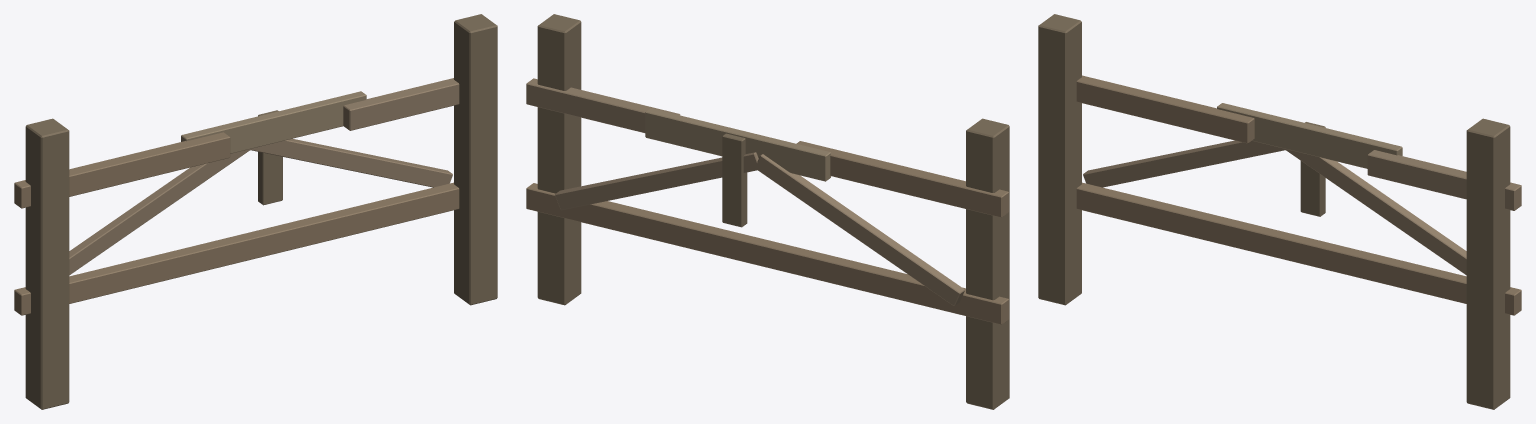
The model's file is env_fence_rail_repaired_c_v04_chevron_brace.glb.
3 renders of one model, left to right at view 1: azimuth 30°, elevation 25°; view 2: azimuth 150°, elevation 25°; view 3: azimuth 330°, elevation 25°, orthographic.
Visible parts, largest first — view 1: material_2, material_0, material_1, material_3; view 2: material_2, material_0, material_1, material_3; view 3: material_2, material_0, material_1, material_3.
Boxes of the visible parts, x1,y1,x2,y2 form: material_2: (25,14,497,409); material_0: (14,132,459,315); material_1: (69,78,459,275); material_3: (181,91,366,153); material_2: (537,14,1009,409); material_0: (526,141,1008,324); material_1: (526,78,964,305); material_3: (645,108,830,181); material_2: (1038,14,1510,409); material_0: (1076,75,1521,315); material_1: (1083,140,1521,275); material_3: (1217,103,1402,168).
Size of the model in its own units: 2 by 1.1 by 0.19.
